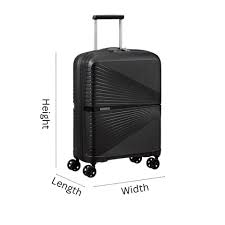suitcase: (64, 13, 163, 178)
